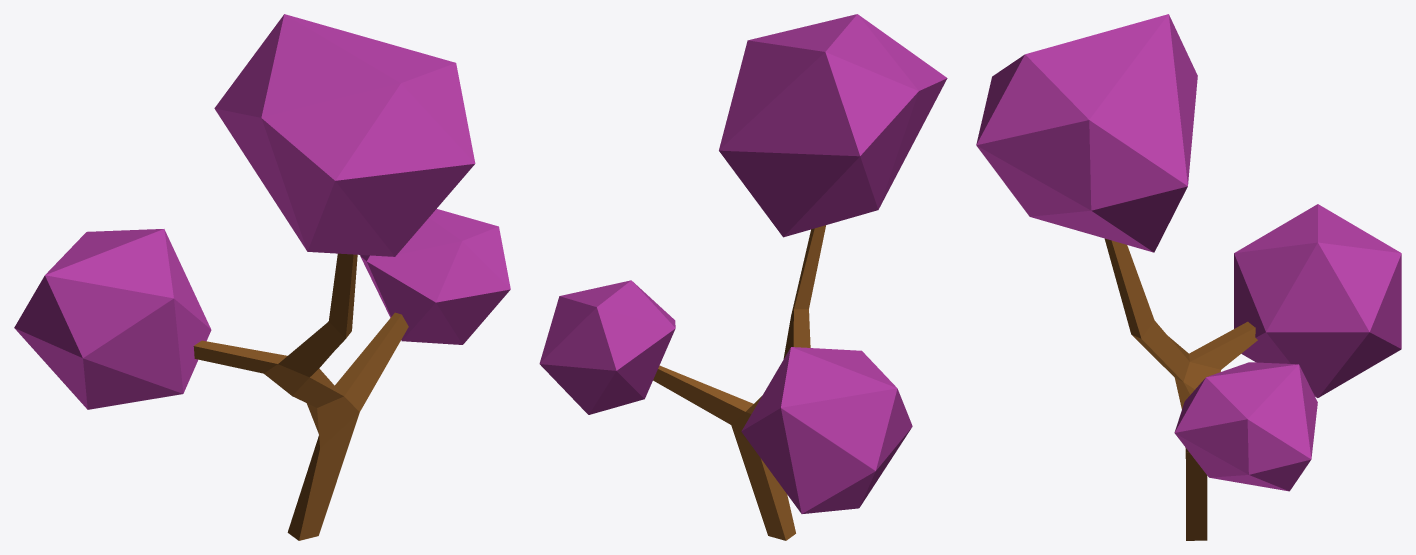
File: scifi_plant.fbx
The picture shows the model from 3 angles, left to right: view 1: azimuth 30°, elevation 25°; view 2: azimuth 150°, elevation 25°; view 3: azimuth 270°, elevation 25°; orthographic projection. The views are drawn at different scales.
Parts seen in each view (by area): view 1: Cube.052; view 2: Cube.052; view 3: Cube.052.
Boxes of the visible parts, bbox=[...] form: Cube.052: bbox=[14, 14, 510, 540]; Cube.052: bbox=[539, 14, 947, 540]; Cube.052: bbox=[976, 14, 1401, 540].
Size of the model in its own units: 0.4663 by 0.5675 by 0.4315.
